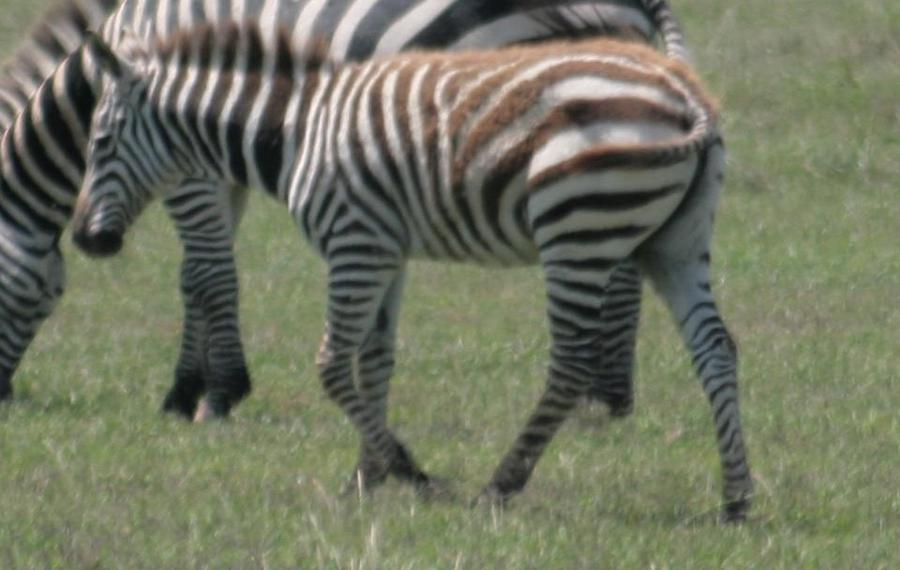zebra_plains: (222, 31, 723, 426)
